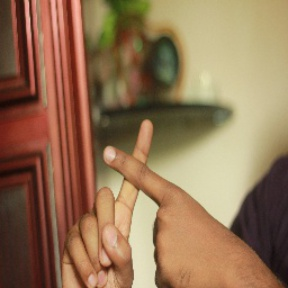X: (81, 108, 204, 243)
